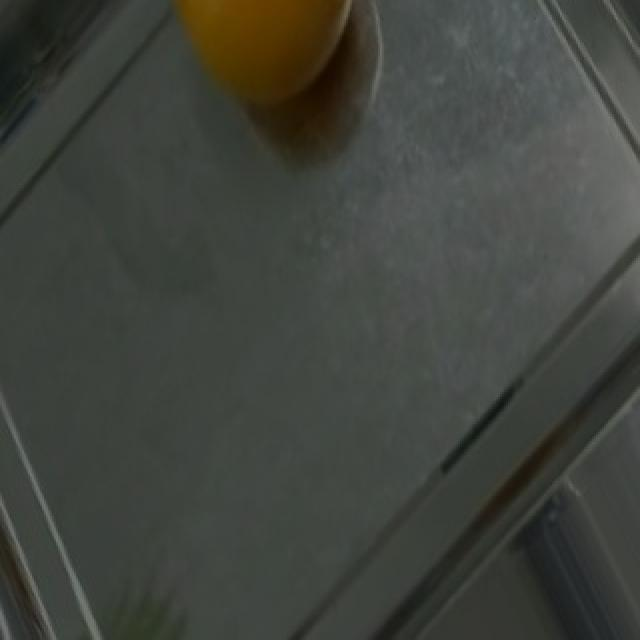Fruit: (138, 2, 380, 136)
